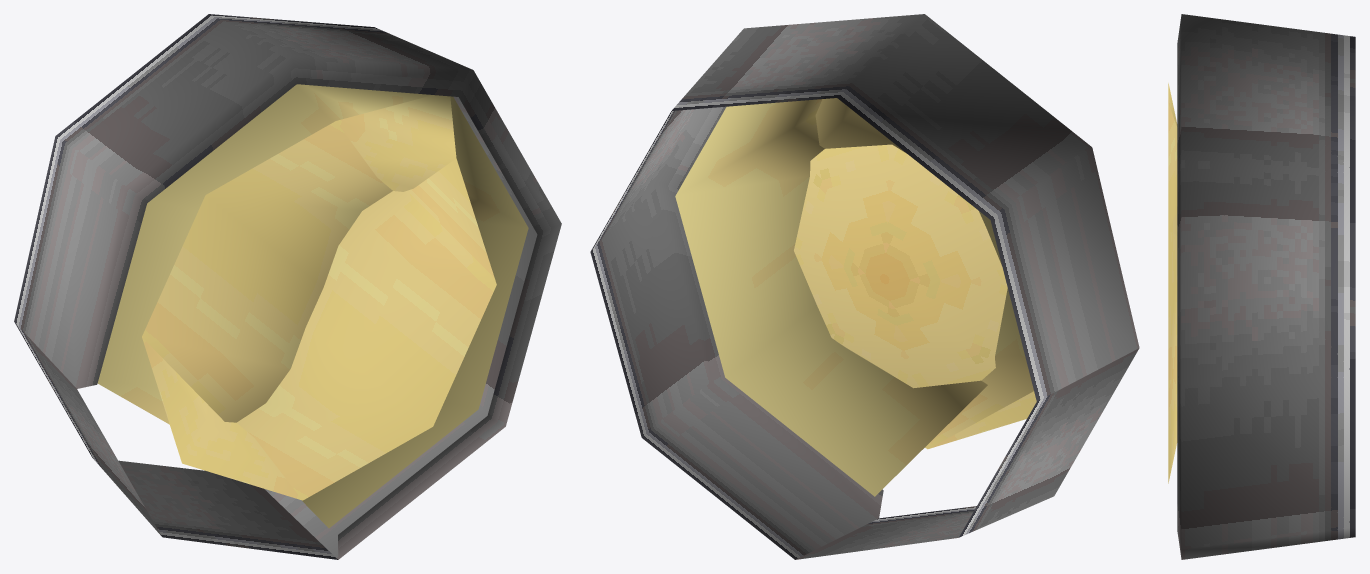
3 renders of one model, left to right at view 1: azimuth 30°, elevation 25°; view 2: azimuth 150°, elevation 25°; view 3: azimuth 270°, elevation 25°, orthographic.
Visible parts, largest first — view 1: 5184item2850r; view 2: 5184item2850r; view 3: 5184item2850r.
Part boxes in pixels (x1,y1,x2,y2): 5184item2850r: (14, 14, 561, 559); 5184item2850r: (590, 14, 1139, 559); 5184item2850r: (1168, 14, 1355, 559).
Size of what is drawn, in the model's own units: 0.9746 by 0.991 by 0.322.
Materials: 2 (2 with a texture image).
